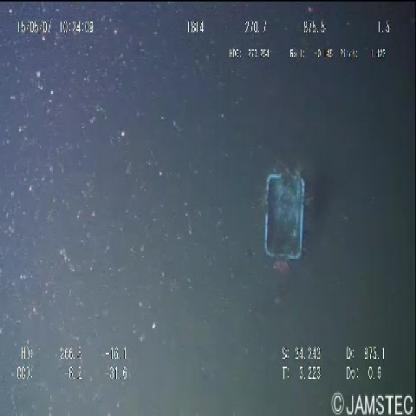Rác: (256, 154, 313, 273)
